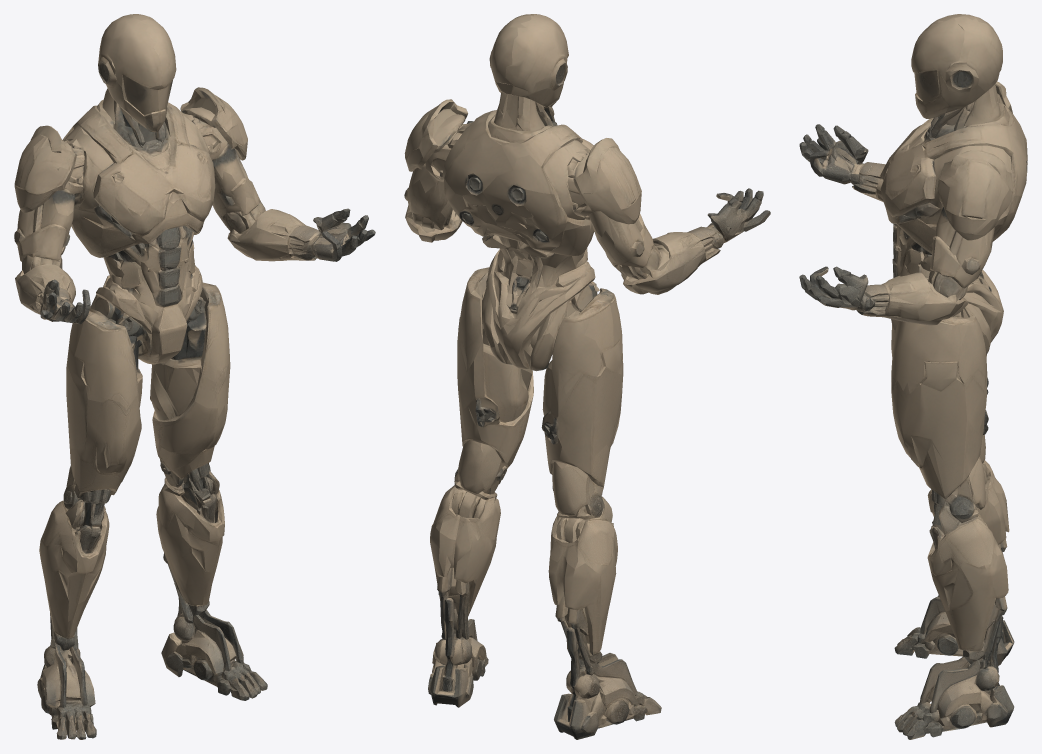
Rendered from anatomist.glb.
3 views of the same model, side by side, from view 1: azimuth 30°, elevation 25°; view 2: azimuth 150°, elevation 25°; view 3: azimuth 270°, elevation 25° (orthographic). The views are drawn at different scales.
Parts seen in each view (by area): view 1: mesh_node; view 2: mesh_node; view 3: mesh_node.
Part boxes in pixels (left/top/right/bottom): mesh_node: left=14, top=14, right=375, bottom=739; mesh_node: left=404, top=14, right=770, bottom=739; mesh_node: left=799, top=14, right=1027, bottom=739.
Bounding box in the file's own units: 0.9822 × 1.9 × 0.5851.
1 material, 1 textured.
